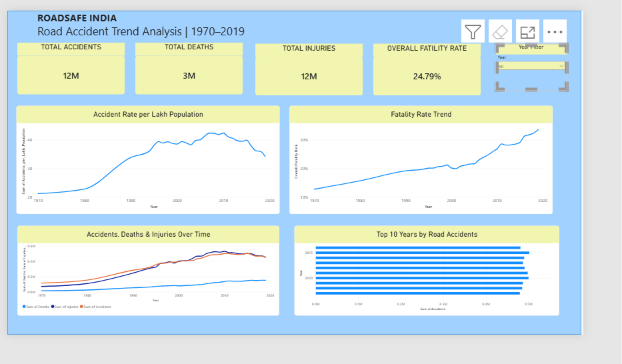

The dashboard page shown, as its layout file describes it:
{"tool":"powerbi","page":{"name":"Page 1","canvas":[1920,1080],"ordinal":0},"visuals":[{"type":"shape","box":[0,0,1913.3,1080],"z":0},{"type":"textbox","box":[101.1,0,857.9,132.9],"z":1000},{"type":"cardVisual","title":"TOTAL ACCIDENTS","fields":{"Data":["Sum(road_accidents_cleaned.Accidents)"]},"box":[31.8,106.9,358.2,173.3],"z":1001},{"type":"cardVisual","title":"TOTAL DEATHS","fields":{"Data":["Sum(road_accidents_cleaned.Deaths)"]},"box":[425,105,358.2,173.3],"z":1002},{"type":"cardVisual","title":"TOTAL INJURIES","fields":{"Data":["Sum(road_accidents_cleaned.Injuries)"]},"box":[825,110,358.2,173.3],"z":1003},{"type":"cardVisual","title":"OVERALL FATILITY RATE","fields":{"Data":["road_accidents_cleaned.Overall Fatality Rate"]},"box":[1220,110,358.2,173.3],"z":1004},{"type":"lineChart","title":"Accident Rate per Lakh Population","fields":{"Category":["road_accidents_cleaned.Year"],"Y":["Sum(road_accidents_cleaned.Accidents_per_Lakh_Population)"]},"box":[30,316.7,878.2,361.1],"z":1005},{"type":"lineChart","title":"Fatality Rate Trend","fields":{"Y":["road_accidents_cleaned.Overall Fatality Rate"],"Category":["road_accidents_cleaned.Year"]},"box":[940,316.7,878.2,361.1],"z":1006},{"type":"lineChart","title":"Accidents, Deaths & Injuries Over Time","fields":{"Category":["road_accidents_cleaned.Year"],"Y":["Sum(road_accidents_cleaned.Deaths)","Sum(road_accidents_cleaned.Injuries)","Sum(road_accidents_cleaned.Accidents)"]},"box":[33.3,716.7,873.3,300],"z":1007},{"type":"clusteredBarChart","title":"Top 10 Years by Road Accidents","fields":{"Category":["road_accidents_cleaned.Year"],"Y":["Sum(road_accidents_cleaned.Accidents)"]},"box":[956.7,716.7,883.3,300],"z":1008},{"type":"slicer","title":"Year Filter","fields":{"Values":["road_accidents_cleaned.Year"]},"box":[1626.7,110,238.3,155],"z":1009}]}

Visuals, with their boxes on the page's 1920x1080 design canvas (x1, y1, x2, y2). These are canvas units, not pixel positions in the 622x364 screenshot, which may show the page scaled, cropped or inside an application window:
shape: [0,0,1913,1080]
textbox: [101,0,959,133]
"TOTAL ACCIDENTS" cardVisual: [32,107,390,280]
"TOTAL DEATHS" cardVisual: [425,105,783,278]
"TOTAL INJURIES" cardVisual: [825,110,1183,283]
"OVERALL FATILITY RATE" cardVisual: [1220,110,1578,283]
"Accident Rate per Lakh Population" lineChart: [30,317,908,678]
"Fatality Rate Trend" lineChart: [940,317,1818,678]
"Accidents, Deaths & Injuries Over Time" lineChart: [33,717,907,1017]
"Top 10 Years by Road Accidents" clusteredBarChart: [957,717,1840,1017]
"Year Filter" slicer: [1627,110,1865,265]
